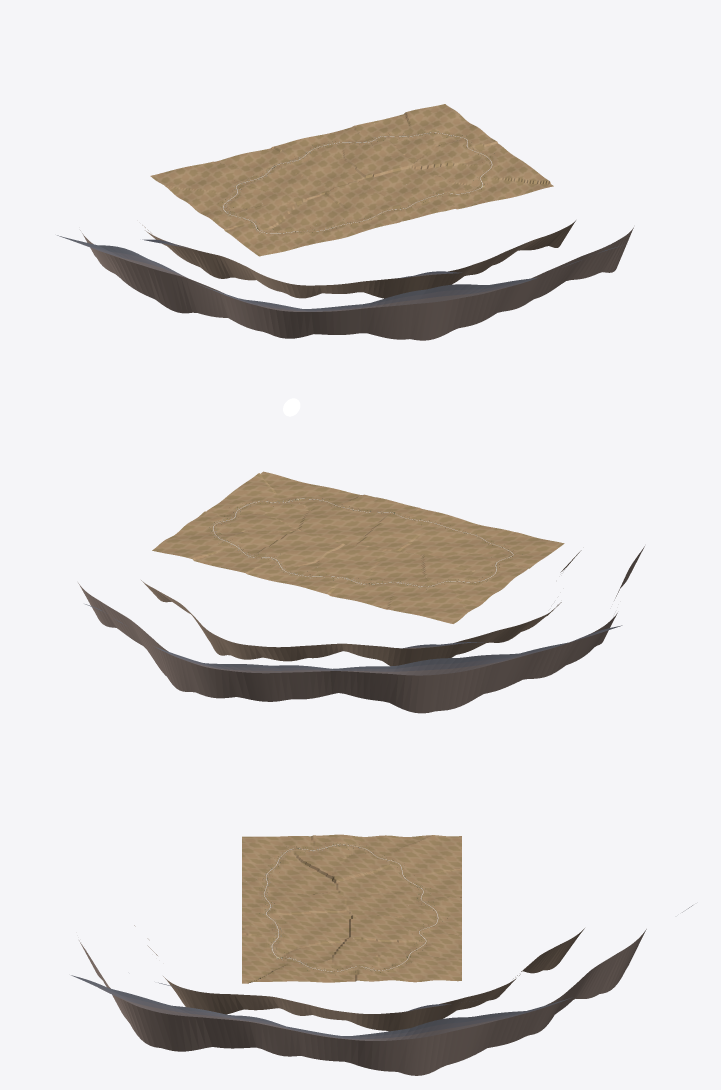
The model's file is saguaro.glb.
The picture shows the model from 3 angles, top to bottom: view 1: azimuth 30°, elevation 25°; view 2: azimuth 150°, elevation 25°; view 3: azimuth 270°, elevation 25°; orthographic projection. The views are drawn at different scales.
Visible parts, largest first — view 1: RinconMountains, SonoranBajada_034, SonoranBajada_024, SonoranBajada_029, SonoranBajada_004, SonoranBajada_032, SonoranBajada_007, SonoranBajada_008, SonoranBajada_011, SonoranBajada_016, SonoranBajada_020, SonoranBajada_001 (+21 smaller); view 2: RinconMountains, SonoranBajada_034, SonoranBajada_024, SonoranBajada_029, SonoranBajada_004, SonoranBajada_032, SonoranBajada_007, SonoranBajada_008, SonoranBajada_020, SonoranBajada_011, SonoranBajada_021, SonoranBajada_001 (+23 smaller); view 3: RinconMountains, SonoranBajada_034, SonoranBajada_024, SonoranBajada_032, SonoranBajada_004, SonoranBajada_029, SonoranBajada_008, SonoranBajada_007, SonoranBajada_020, SonoranBajada_011, SonoranBajada_016, SonoranBajada_035 (+22 smaller).
Part boxes in pixels (bbox=[...]): RinconMountains: bbox=[57, 220, 633, 340]; SonoranBajada_034: bbox=[150, 163, 255, 191]; SonoranBajada_024: bbox=[346, 137, 413, 177]; SonoranBajada_029: bbox=[280, 151, 365, 187]; SonoranBajada_004: bbox=[324, 181, 400, 223]; SonoranBajada_032: bbox=[234, 167, 333, 199]; SonoranBajada_007: bbox=[359, 172, 451, 211]; SonoranBajada_008: bbox=[388, 167, 455, 209]; SonoranBajada_011: bbox=[466, 178, 553, 199]; SonoranBajada_016: bbox=[412, 141, 497, 169]; SonoranBajada_020: bbox=[405, 104, 445, 147]; SonoranBajada_001: bbox=[300, 195, 355, 236]; RinconMountains: bbox=[78, 546, 644, 713]; SonoranBajada_034: bbox=[398, 578, 468, 623]; SonoranBajada_024: bbox=[265, 530, 342, 565]; SonoranBajada_029: bbox=[334, 543, 384, 588]; SonoranBajada_004: bbox=[357, 508, 424, 551]; SonoranBajada_032: bbox=[378, 549, 423, 597]; SonoranBajada_007: bbox=[325, 495, 377, 545]; SonoranBajada_008: bbox=[299, 494, 367, 537]; SonoranBajada_020: bbox=[152, 531, 251, 559]; SonoranBajada_011: bbox=[259, 471, 317, 505]; SonoranBajada_021: bbox=[197, 531, 294, 558]; SonoranBajada_001: bbox=[406, 520, 474, 555]; RinconMountains: bbox=[71, 905, 692, 1075]; SonoranBajada_034: bbox=[382, 835, 461, 868]; SonoranBajada_024: bbox=[349, 914, 434, 941]; SonoranBajada_032: bbox=[336, 871, 438, 898]; SonoranBajada_004: bbox=[242, 892, 348, 912]; SonoranBajada_029: bbox=[344, 893, 446, 915]; SonoranBajada_008: bbox=[242, 926, 348, 942]; SonoranBajada_007: bbox=[242, 912, 352, 931]; SonoranBajada_020: bbox=[376, 952, 461, 980]; SonoranBajada_011: bbox=[242, 952, 290, 983]; SonoranBajada_016: bbox=[332, 937, 367, 981]; SonoranBajada_035: bbox=[332, 848, 401, 881].
Bounding box in the file's own units: 9299 × 1289 × 9265.
